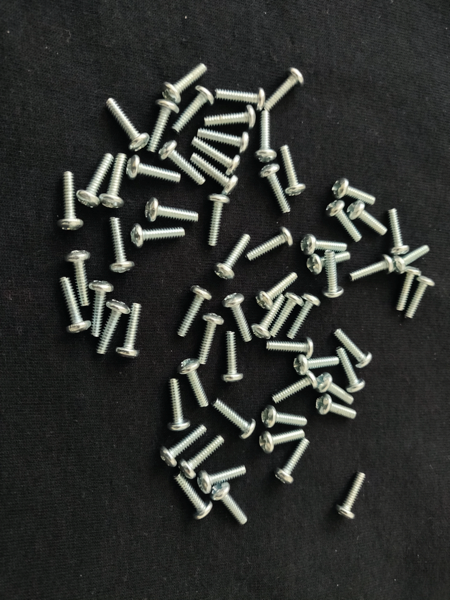shortscrew: (105, 96, 150, 151), (75, 152, 114, 209), (159, 140, 206, 186), (159, 424, 208, 468), (172, 85, 214, 135), (192, 153, 239, 197), (178, 436, 225, 480), (95, 299, 131, 356), (175, 285, 213, 338), (263, 67, 305, 114), (161, 62, 208, 104), (211, 397, 256, 440), (174, 473, 213, 521), (273, 437, 311, 486), (192, 137, 241, 175), (214, 233, 252, 280), (59, 277, 91, 332), (210, 482, 249, 526), (259, 164, 293, 214), (147, 100, 179, 153), (64, 249, 93, 307), (333, 328, 374, 369), (106, 217, 136, 273), (56, 171, 84, 231), (269, 371, 318, 405), (177, 358, 210, 408), (325, 199, 363, 242), (256, 272, 299, 310), (250, 294, 285, 340), (335, 471, 367, 521), (99, 153, 127, 209), (221, 293, 253, 342), (247, 227, 293, 261), (271, 291, 305, 337), (287, 293, 321, 339), (334, 346, 367, 393), (126, 156, 181, 184), (115, 303, 142, 358), (144, 197, 198, 224), (279, 144, 306, 196), (198, 127, 250, 154), (130, 224, 186, 249), (89, 281, 114, 337), (199, 312, 225, 365), (197, 466, 246, 494), (348, 201, 387, 236), (405, 275, 436, 319), (167, 378, 192, 432), (206, 194, 231, 247), (314, 373, 355, 405), (331, 178, 376, 207), (215, 86, 266, 111), (257, 430, 306, 456), (348, 255, 393, 283), (253, 111, 277, 163), (315, 393, 358, 422), (391, 244, 431, 275), (205, 105, 256, 129), (221, 332, 245, 383), (261, 404, 308, 428), (304, 252, 351, 276), (397, 266, 422, 311), (388, 207, 411, 254), (300, 234, 348, 256), (293, 354, 340, 376), (323, 251, 344, 299)
